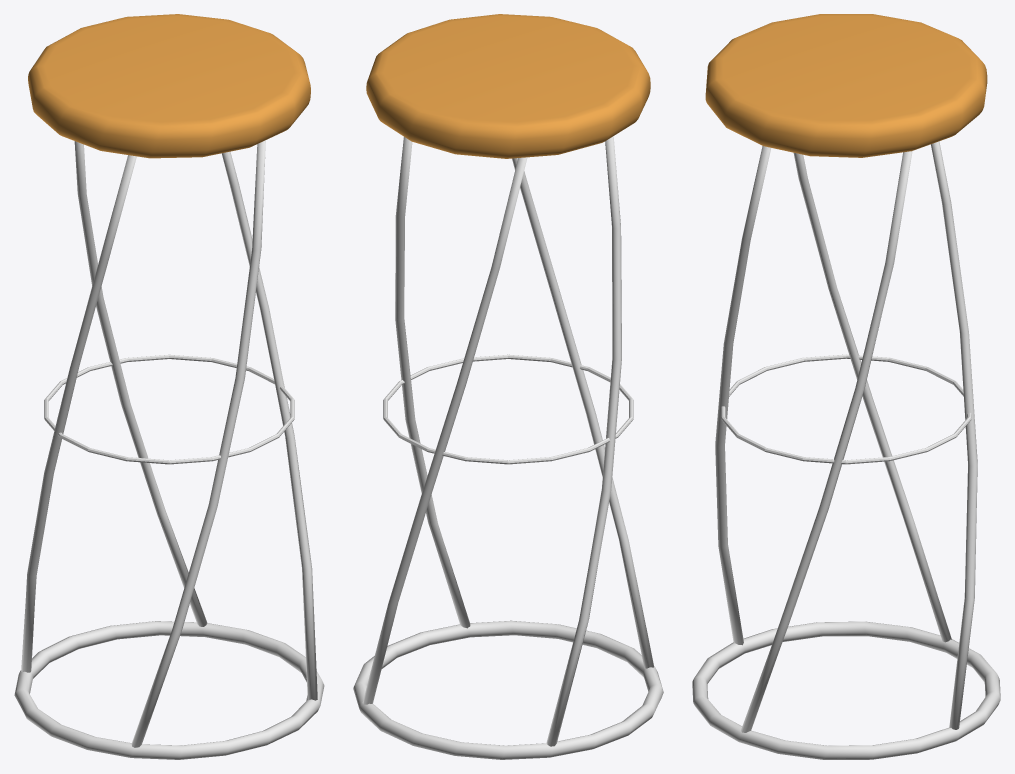
The model's file is Chair.fbx.
3 renders of one model, left to right at view 1: azimuth 30°, elevation 25°; view 2: azimuth 150°, elevation 25°; view 3: azimuth 270°, elevation 25°, orthographic.
Parts seen in each view (by area): view 1: Sillas; view 2: Sillas; view 3: Sillas.
Part boxes in pixels (left/top/right/bottom): Sillas: left=14, top=14, right=324, bottom=759; Sillas: left=353, top=14, right=663, bottom=759; Sillas: left=692, top=14, right=1000, bottom=759.
Bounding box in the file's own units: 54.29 × 122 × 54.29.
